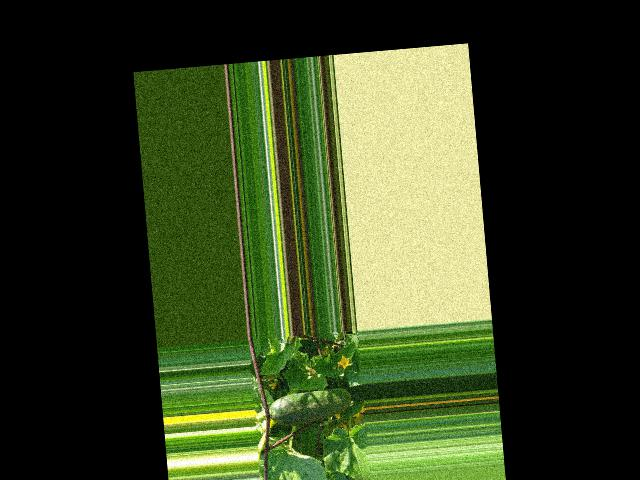cucumber: (268, 387, 353, 429)
